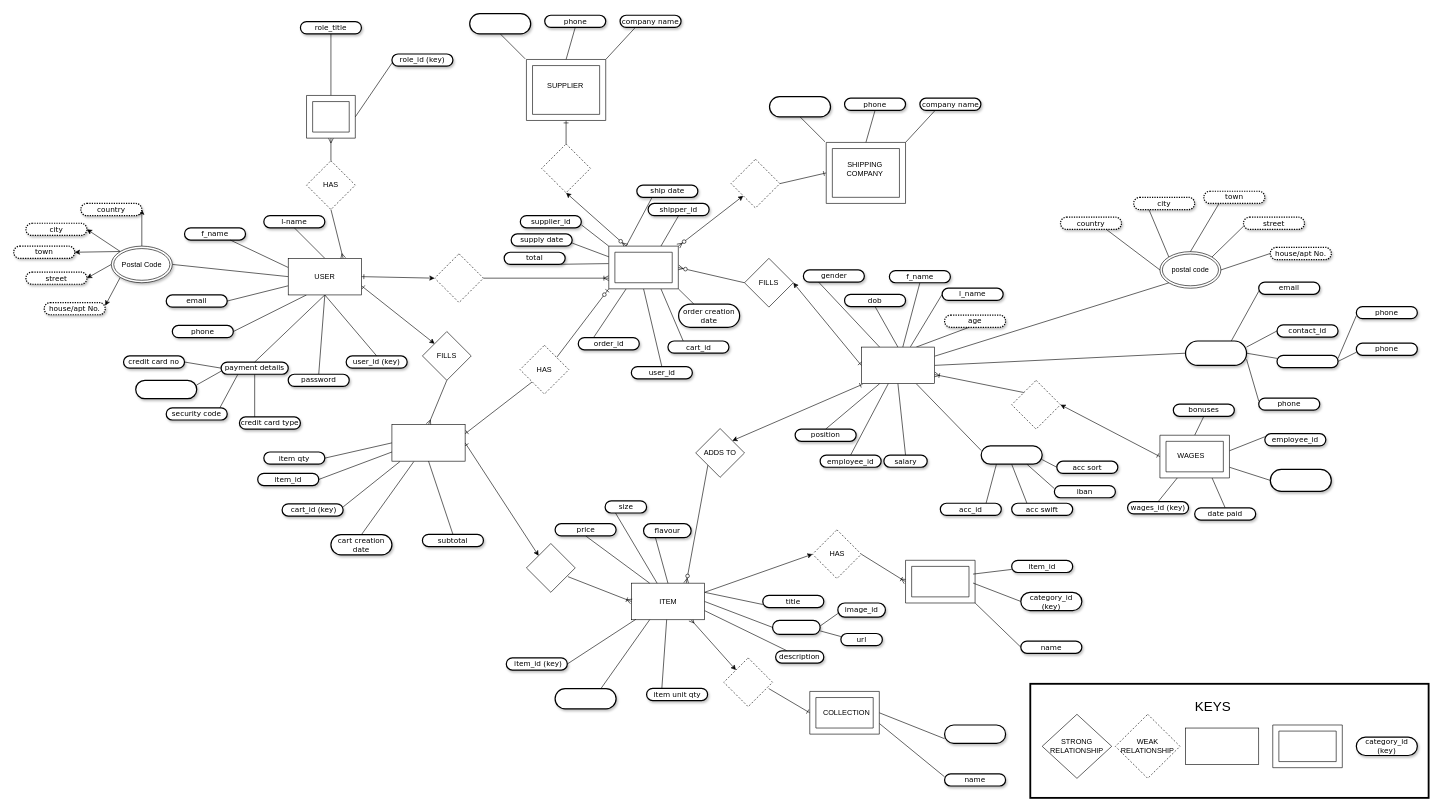
Some shapes in this 1440 by 809 pixel diagram are drawn without their labels. The shapes that lost their labels are listed below. From the top down, each one's centre as x and y in pixels, then its label:
At [500,24]: "supplier_id (key)".
At [330,116]: "ROLE".
At [800,107]: "shipper_id (key)".
At [565,168]: "SUPPLIED BY".
At [755,183]: "SHIPPED BY".
At [458,278]: "Makes".
At [643,267]: "ORDER".
At [898,365]: "EMPLOYEE".
At [1216,354]: "contact details".
At [1308,362]: "next of kin".
At [166,390]: "Credit card expiry no".
At [1035,404]: "PAID TO".
At [428,442]: "CART".
At [1012,456]: "bank account details".
At [1301,481]: "Employee monthly wage".
At [550,567]: "CONTAINS".
At [940,581]: "CATEGORIES".
At [796,628]: "images".
At [586,699]: "collection _id".
At [748,682]: "BELONGS TO".
At [975,735]: "Collection_id (key)".
At [1222,746]: "STRONG ENTITY".
At [1307,746]: "WEAK ENTITY".
